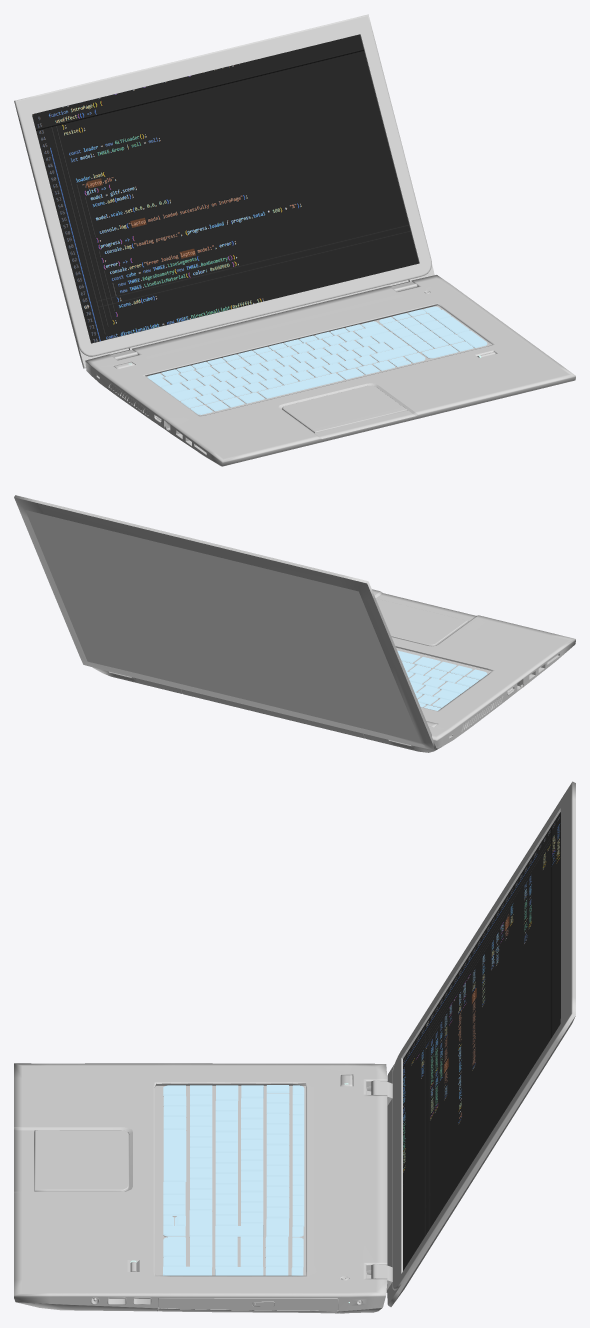
The model's file is Laptop.glb.
3 views of the same model, one above another, from view 1: azimuth 30°, elevation 25°; view 2: azimuth 150°, elevation 25°; view 3: azimuth 270°, elevation 25° (orthographic). The views are drawn at different scales.
Visible parts, largest first — view 1: Plane.001, Plane.005, Plane.002, Plane.009, Plane.003, Plane.007; view 2: Plane.002, Plane.005, Plane.009, Plane.003; view 3: Plane.005, Plane.001, Plane.009, Plane.002, Plane.003, Plane.011.
Part boxes in pixels (x1,y1,x2,y2): Plane.001: [32, 34, 418, 343]; Plane.005: [85, 275, 575, 466]; Plane.002: [14, 14, 434, 368]; Plane.009: [147, 306, 487, 414]; Plane.003: [146, 305, 491, 415]; Plane.007: [162, 314, 485, 415]; Plane.002: [14, 495, 436, 750]; Plane.005: [93, 589, 575, 752]; Plane.009: [397, 650, 487, 710]; Plane.003: [396, 647, 491, 707]; Plane.005: [14, 1063, 387, 1313]; Plane.001: [403, 812, 560, 1270]; Plane.009: [163, 1085, 304, 1275]; Plane.002: [371, 781, 575, 1306]; Plane.003: [154, 1085, 305, 1275]; Plane.011: [154, 1215, 305, 1275].
Bounding box in the file's own units: 5.02 × 3.12 × 5.13.
5 materials, 1 textured.
